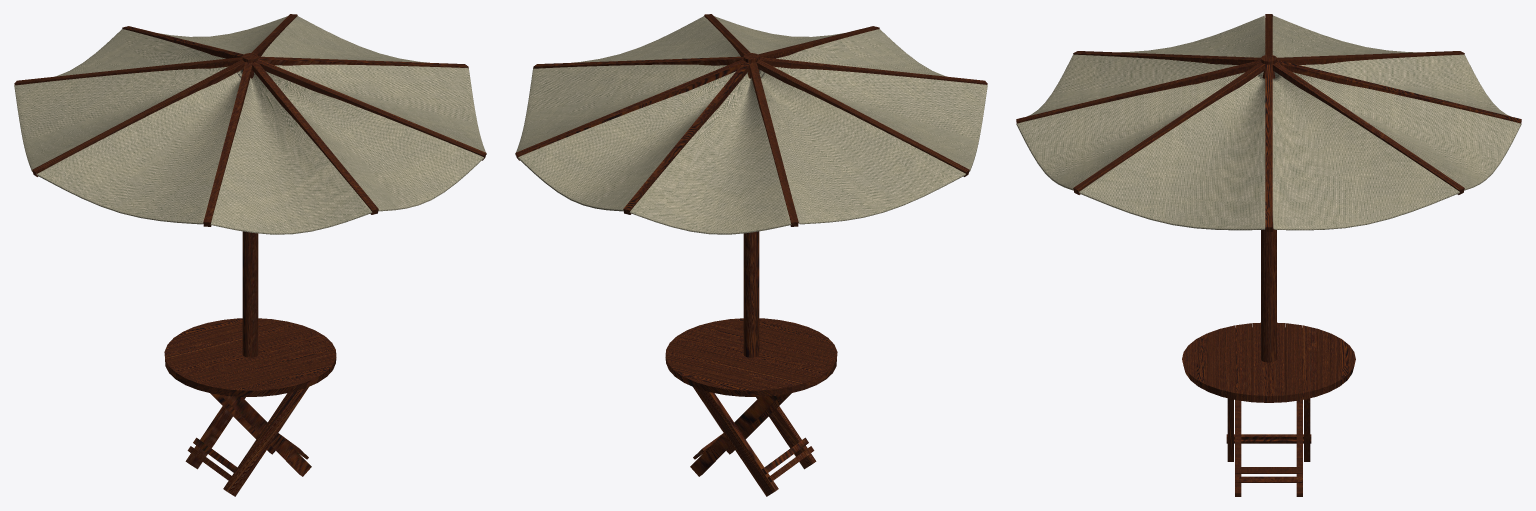
File: MesaExtParasol.fbx
3 renders of one model, left to right at view 1: azimuth 30°, elevation 25°; view 2: azimuth 150°, elevation 25°; view 3: azimuth 270°, elevation 25°, orthographic.
Parts seen in each view (by area): view 1: MesaExtParasol; view 2: MesaExtParasol; view 3: MesaExtParasol.
Part boxes in pixels (x1,y1,x2,y2): MesaExtParasol: (14, 14, 486, 496); MesaExtParasol: (515, 14, 987, 496); MesaExtParasol: (1016, 14, 1521, 496).
Bounding box in the file's own units: 292 × 269 × 292.
